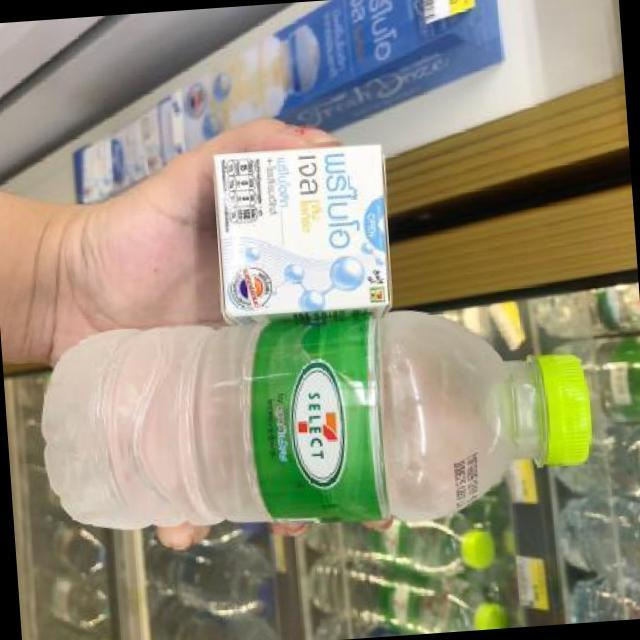good: (18, 288, 610, 540)
